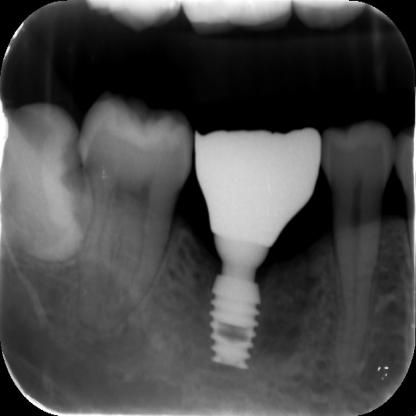Bicon: (205, 233, 279, 366)
